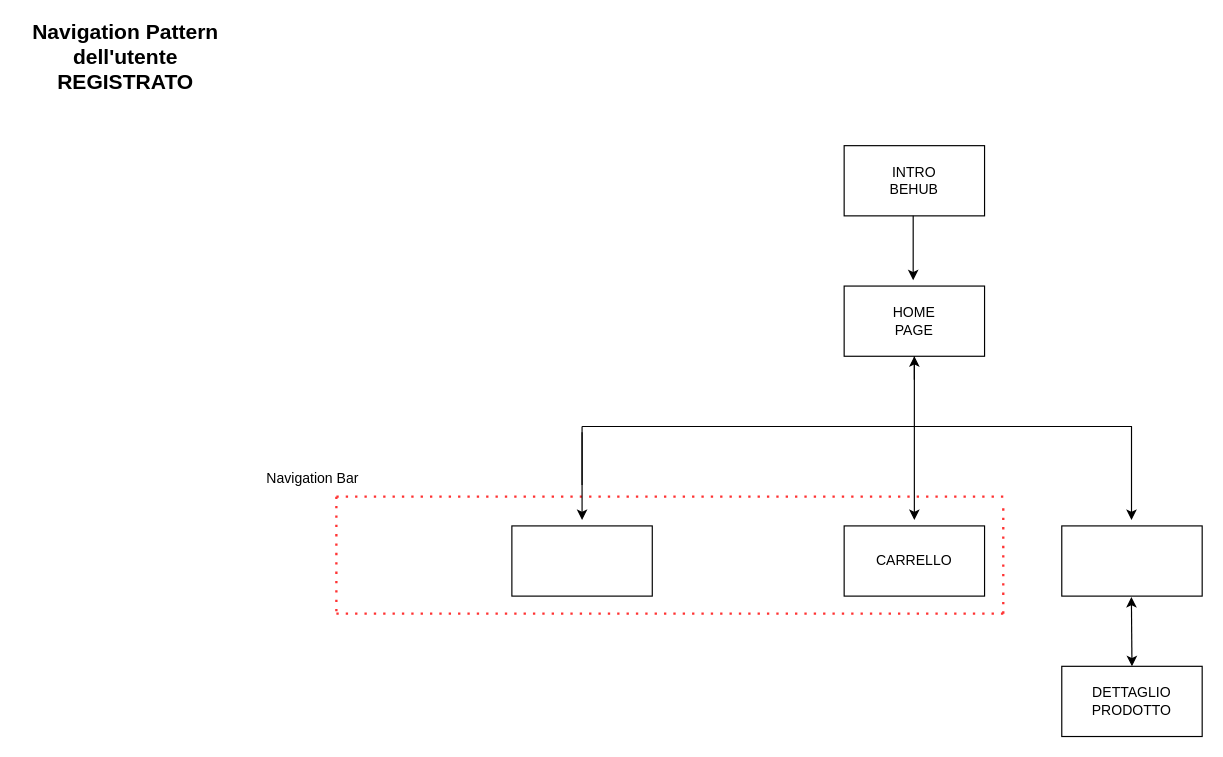
The diagram is 1223 pixels wide and 757 high, and some of its shapes have lost their labels. Each missing label, with the centre of its shape:
"LISTA PRODOTTI" goes at [1131,560].
"Login/Register" goes at [581,560].
